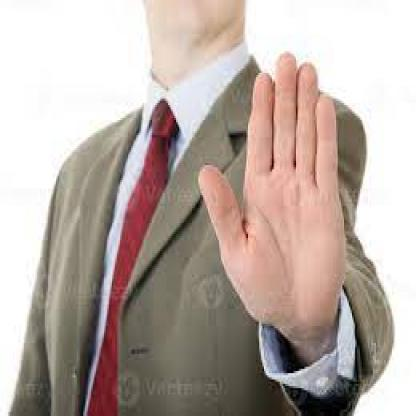stop: (196, 46, 357, 330)
